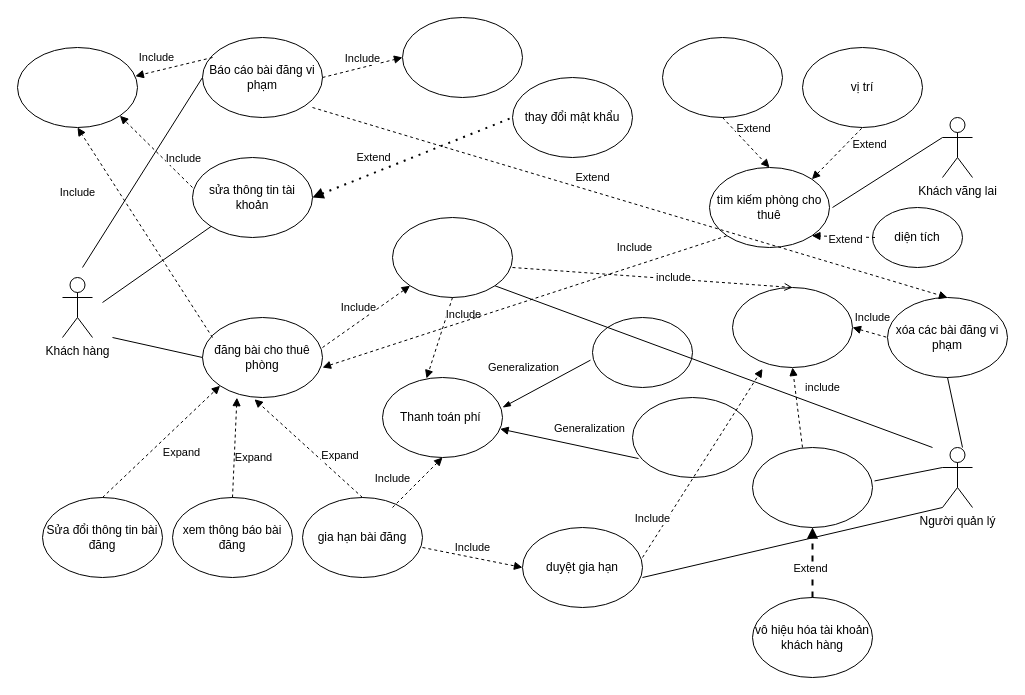
The diagram is 1025 pixels wide and 695 high, and some of its shapes have lost their labels. The centre of each missing label's shape, as x and y in pixels:
Duyệt bài đăng: the point at 452,257
giá thuê: the point at 722,77
Lý do báo cáo bài đăng: the point at 462,57
NAPAS/VISA: the point at 692,437
VN/PAY: the point at 642,352
xem tài khoản khách hàng: the point at 812,487
đăng nhập đối với khách hàng: the point at 77,87
đăng nhập đối với người quản lý: the point at 792,327
